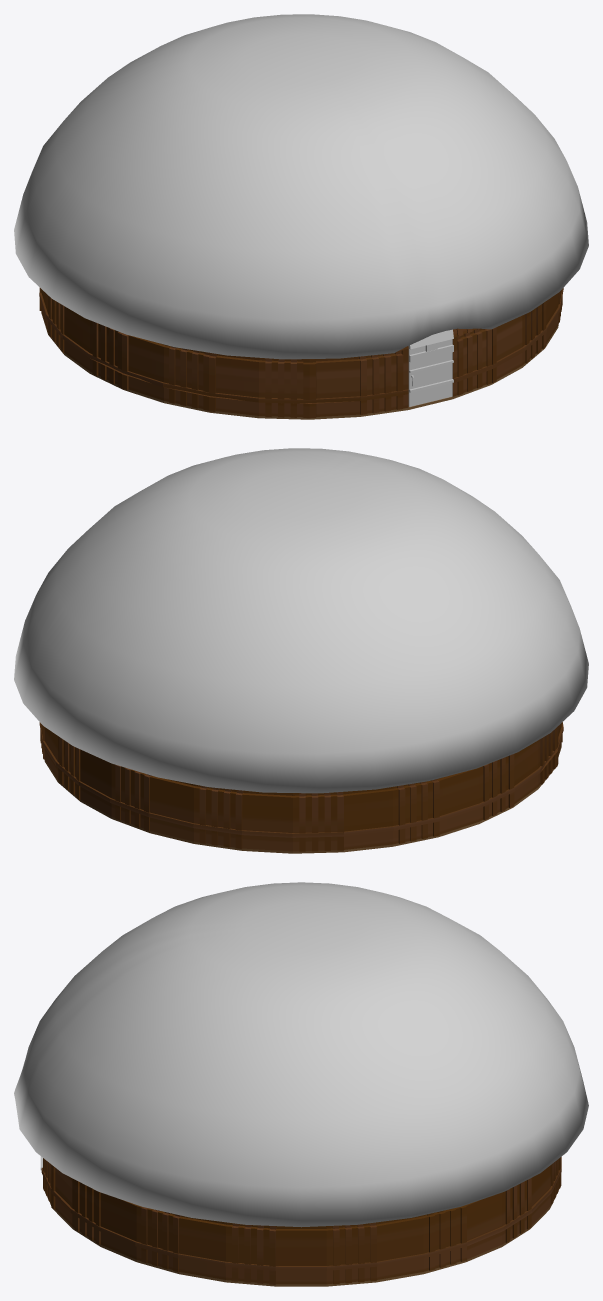
Rendered from Rumah Honai.fbx.
3 renders of one model, top to bottom at view 1: azimuth 30°, elevation 25°; view 2: azimuth 150°, elevation 25°; view 3: azimuth 270°, elevation 25°, orthographic.
Parts seen in each view (by area): view 1: RoofHonai, WallHonai, DoorHonai, 1stFloorHonai; view 2: RoofHonai, WallHonai, 1stFloorHonai; view 3: RoofHonai, WallHonai, 1stFloorHonai.
Boxes of the visible parts, box(x1,y1,x2,y2) form: RoofHonai: box(14, 14, 588, 359); WallHonai: box(39, 287, 563, 418); DoorHonai: box(408, 329, 453, 406); 1stFloorHonai: box(41, 311, 558, 419); RoofHonai: box(14, 448, 588, 793); WallHonai: box(39, 722, 563, 851); 1stFloorHonai: box(44, 745, 561, 853); RoofHonai: box(14, 882, 588, 1227); WallHonai: box(41, 1157, 561, 1284); 1stFloorHonai: box(44, 1188, 559, 1286).
Size of the model in its own units: 2215 by 1073 by 2215.
